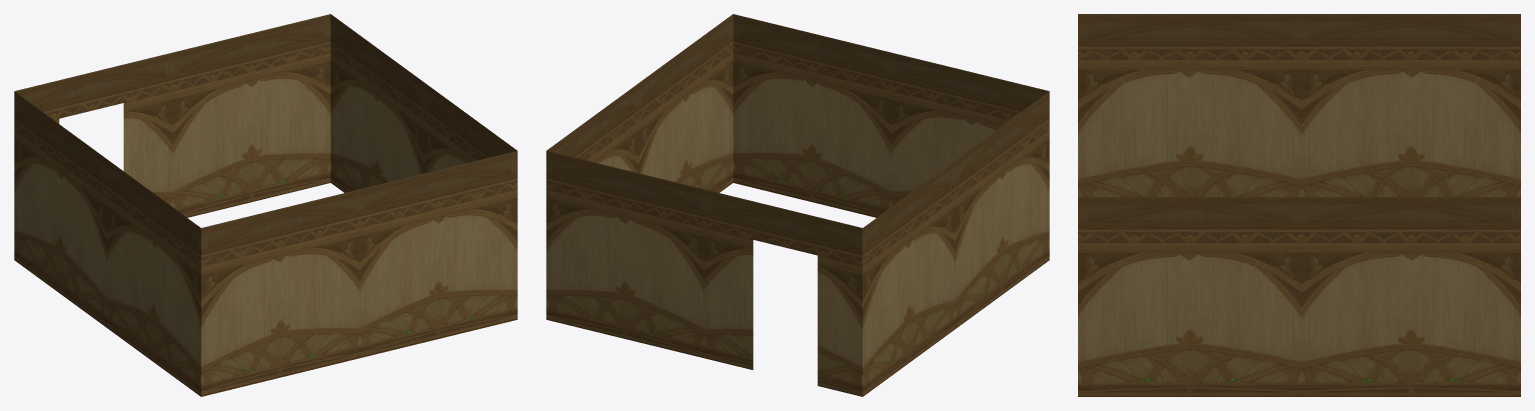
The model's file is Homeworld_Interior_Xm_Room_H_Filling_01_Vo.fbx.
3 views of the same model, side by side, from view 1: azimuth 30°, elevation 25°; view 2: azimuth 150°, elevation 25°; view 3: azimuth 270°, elevation 25° (orthographic). The views are drawn at different scales.
Visible parts, largest first — view 1: Homeworld_Interior_Xm_Room_H_Filling_01_Vo; view 2: Homeworld_Interior_Xm_Room_H_Filling_01_Vo; view 3: Homeworld_Interior_Xm_Room_H_Filling_01_Vo.
Boxes of the visible parts, x1,y1,x2,y2 form: Homeworld_Interior_Xm_Room_H_Filling_01_Vo: [14, 14, 517, 396]; Homeworld_Interior_Xm_Room_H_Filling_01_Vo: [546, 14, 1049, 396]; Homeworld_Interior_Xm_Room_H_Filling_01_Vo: [1078, 14, 1520, 396].
Bounding box in the file's own units: 9.77 × 4.98 × 9.99.
